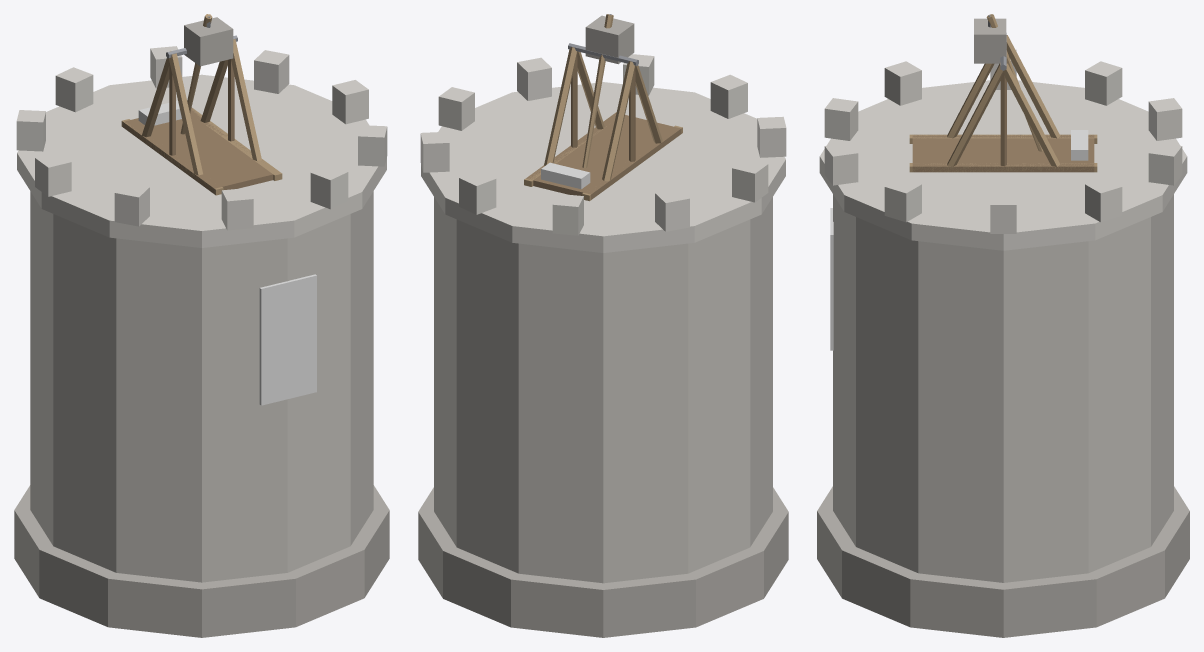
The picture shows the model from 3 angles, left to right: view 1: azimuth 30°, elevation 25°; view 2: azimuth 150°, elevation 25°; view 3: azimuth 270°, elevation 25°; orthographic projection.
Visible parts, largest first — view 1: body; view 2: body; view 3: body.
Part boxes in pixels (x1,y1,x2,y2): body: (14, 14, 389, 637); body: (418, 14, 788, 637); body: (817, 14, 1189, 637).
Size of the model in its own units: 7 by 11.28 by 7.
